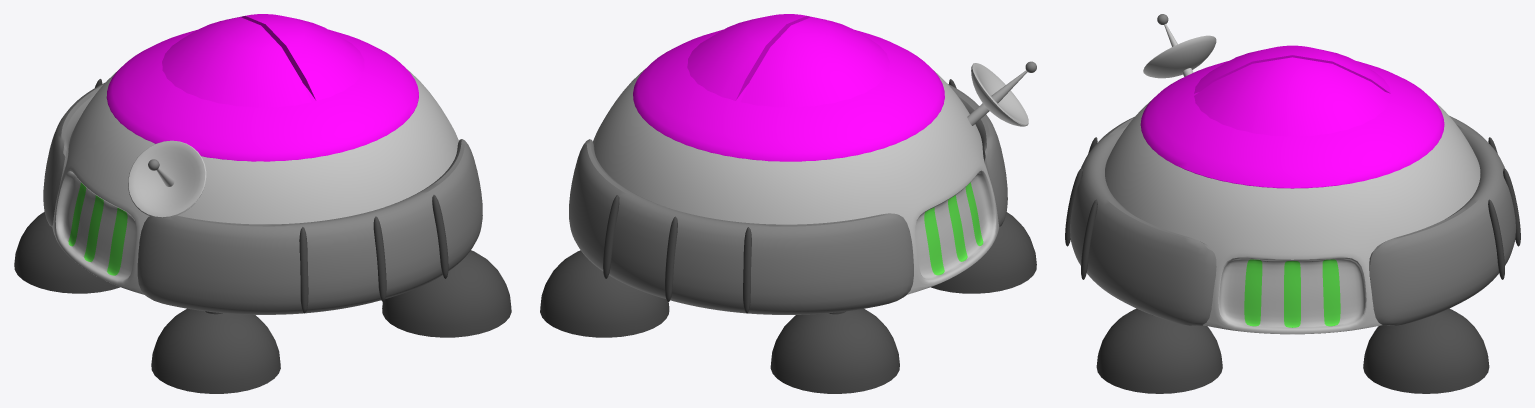
The model's file is Silence.fbx.
The picture shows the model from 3 angles, left to right: view 1: azimuth 30°, elevation 25°; view 2: azimuth 150°, elevation 25°; view 3: azimuth 270°, elevation 25°; orthographic projection. The views are drawn at different scales.
Parts seen in each view (by area): view 1: Sphere.009, Sphere.006, Sphere.007, Sphere.011, Sphere.008, Sphere.012, Sphere.010; view 2: Sphere.006, Sphere.009, Sphere.007, Sphere.011, Sphere.008, Sphere.010, Sphere.012, Cylinder.054; view 3: Sphere.006, Sphere.009, Sphere.007, Sphere.011, Sphere.008, Sphere.010, Sphere.012.
Boxes of the visible parts, x1,y1,x2,y2 form: Sphere.009: (43,82,482,314); Sphere.006: (52,68,458,294); Sphere.007: (106,29,418,161); Sphere.011: (14,212,511,393); Sphere.008: (162,14,364,107); Sphere.012: (128,140,206,218); Sphere.010: (95,79,448,313); Sphere.006: (593,68,999,294); Sphere.009: (569,84,1007,314); Sphere.007: (633,29,944,161); Sphere.011: (540,212,1036,393); Sphere.008: (687,14,889,107); Sphere.010: (603,79,956,313); Sphere.012: (971,63,1028,126); Cylinder.054: (967,70,1027,125); Sphere.006: (1105,101,1480,334); Sphere.009: (1070,115,1515,325); Sphere.007: (1140,61,1444,188); Sphere.011: (1096,308,1489,393); Sphere.008: (1194,45,1390,136); Sphere.010: (1065,137,1520,279); Sphere.012: (1143,35,1216,78).
Bounding box in the file's own units: 275 × 189 × 305.
